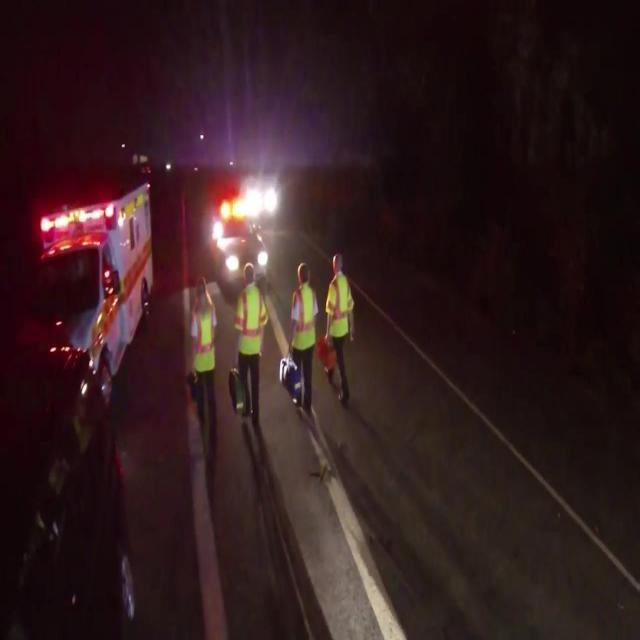Reflective-Jacket: (234, 284, 268, 361), (188, 300, 220, 380), (324, 274, 356, 345), (290, 284, 318, 358)
Safety-Helmet: (329, 247, 349, 278), (193, 270, 211, 300), (295, 258, 313, 284), (241, 258, 257, 284)
